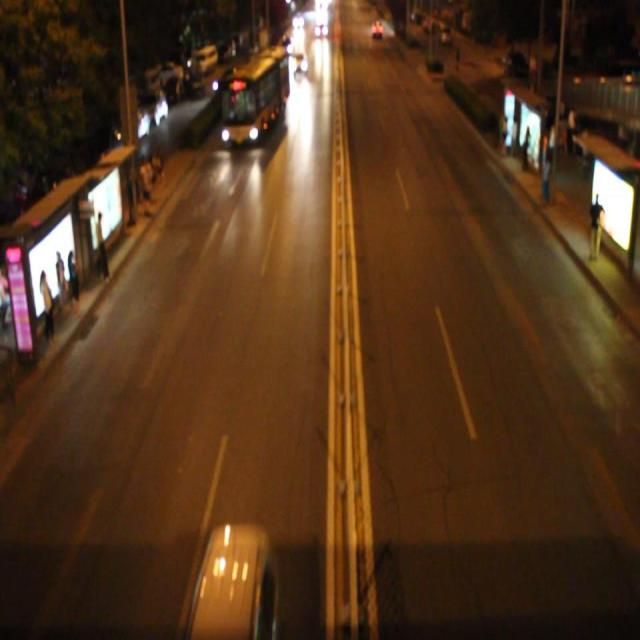car: (291, 45, 308, 74)
van: (223, 48, 290, 144)
